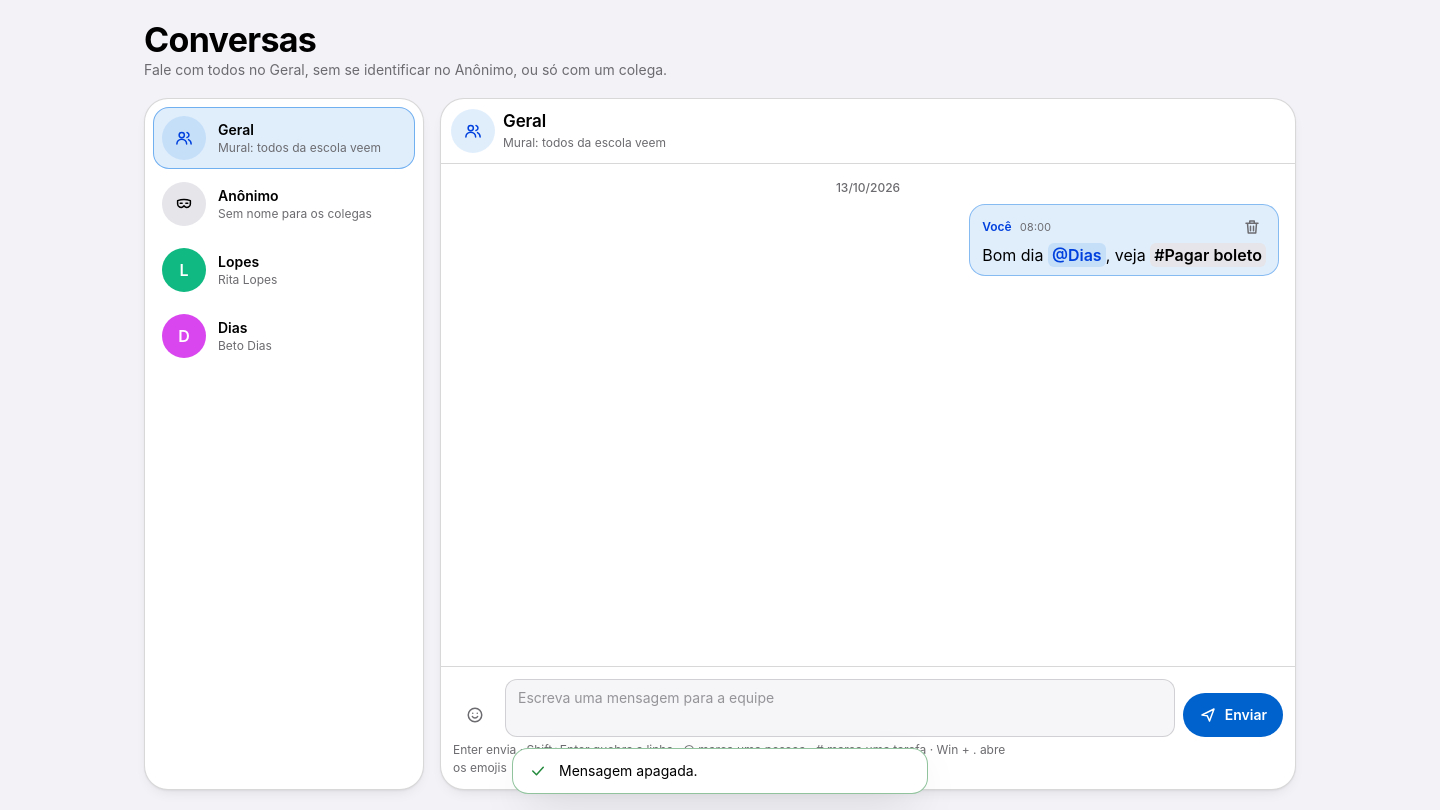
Test: conversas: marcações, perfil e emojis (tela) › a marcação abre o perfil, e do perfil dá para começar a conversa
The image size is (1440, 810).
Expected: the navigation bar named "Conversas" is shown, [144,98,424,790]
Click the button "Geral Mural: todos da escola veem" at [284, 138], box [153,107,415,169]
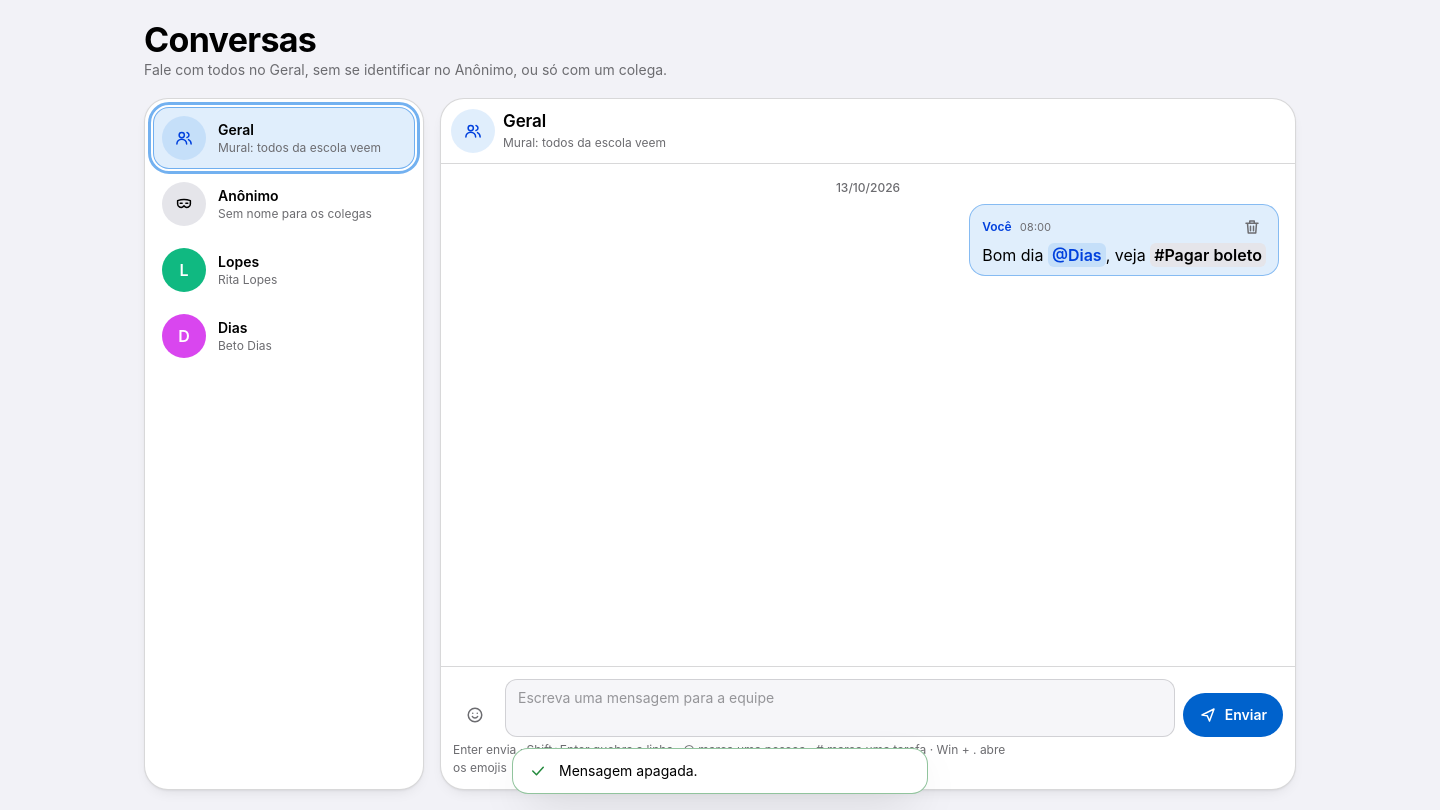
Click the button with aria-label "Ver perfil de Dias" at [1077, 255], box [1048,243,1106,267]
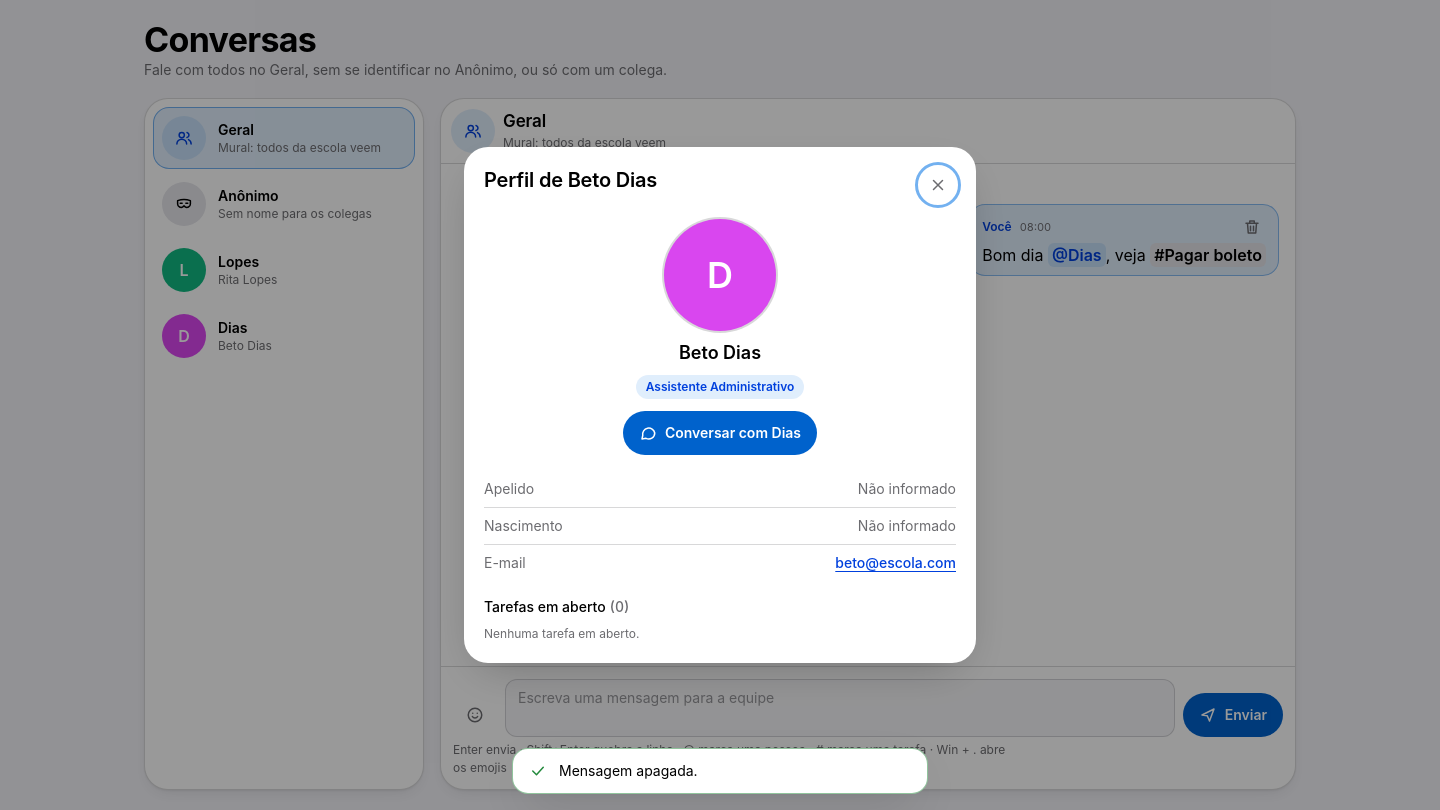
Click the button "Conversar com Dias" at [720, 433], box [623,411,817,455]
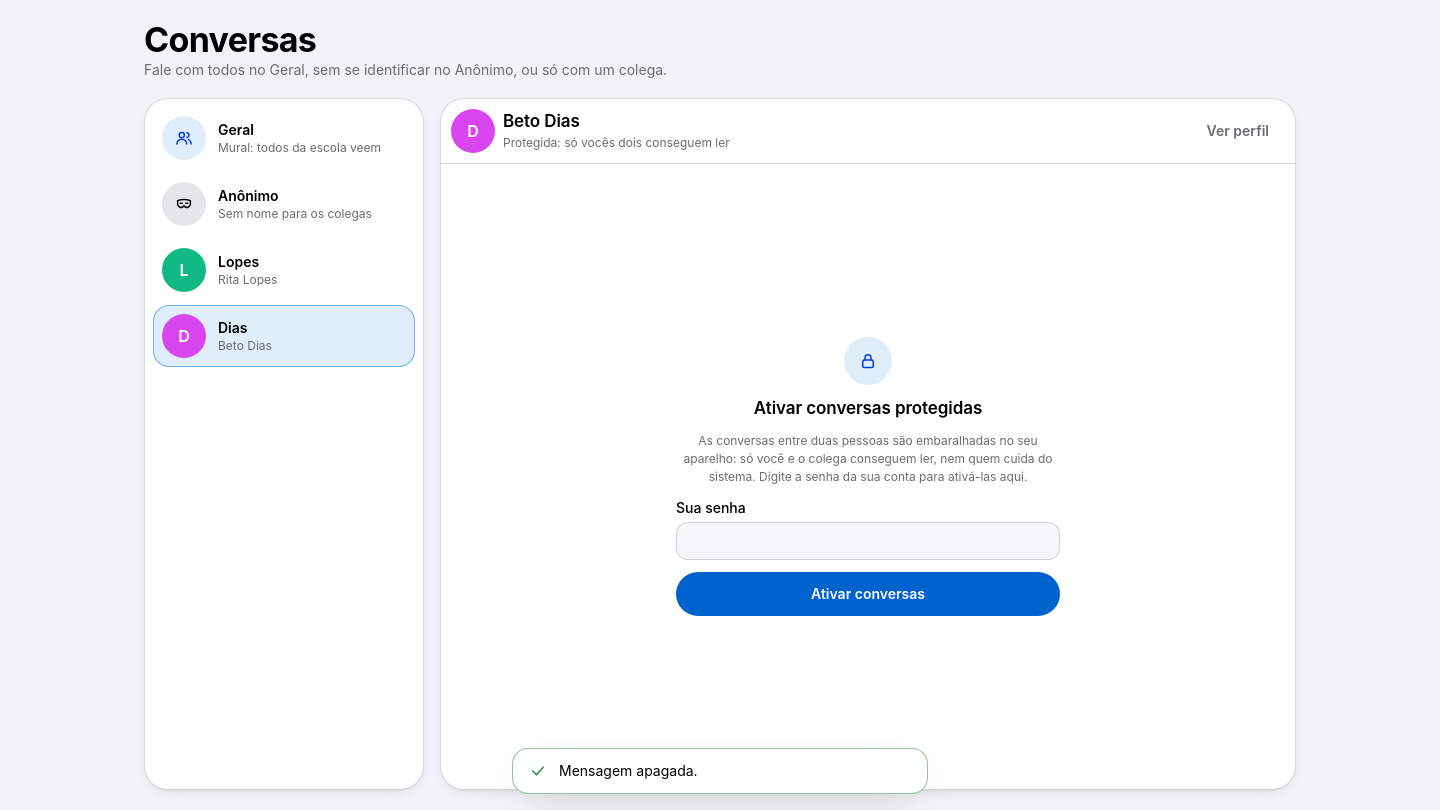
Expected: the element named "Conversa: Dias" is shown, [440,98,1296,790]
